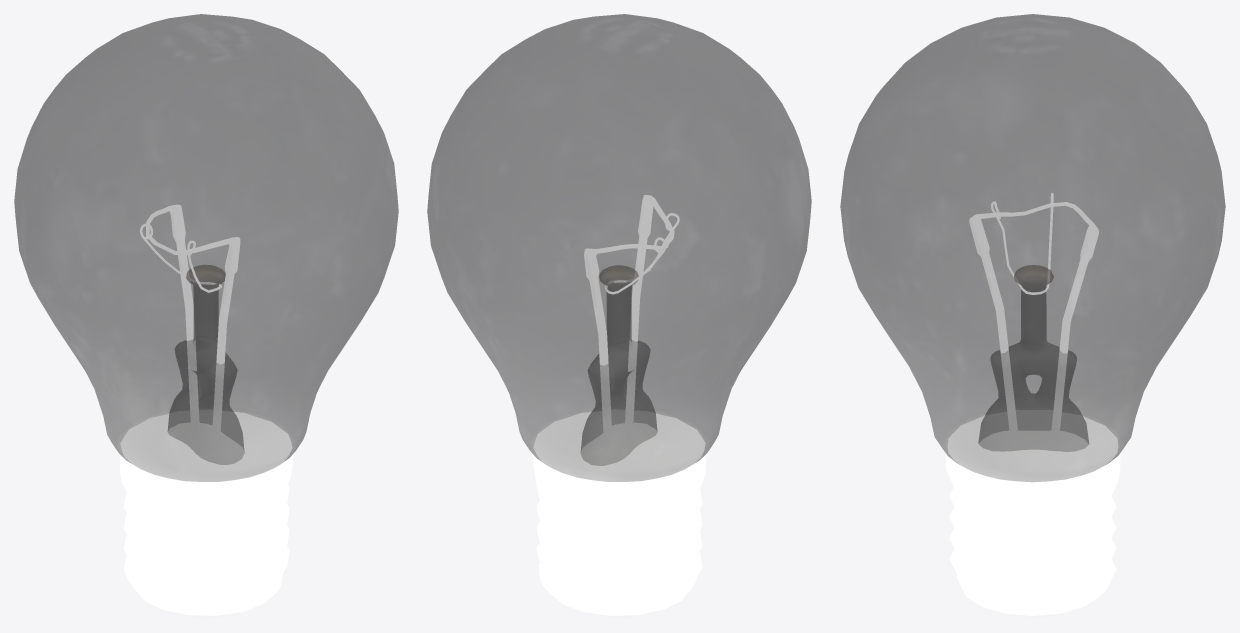
Rendered from lightbulb_01.glb.
3 views of the same model, side by side, from view 1: azimuth 30°, elevation 25°; view 2: azimuth 150°, elevation 25°; view 3: azimuth 270°, elevation 25° (orthographic).
Parts seen in each view (by area): view 1: lightbulb_01; view 2: lightbulb_01; view 3: lightbulb_01.
Boxes of the visible parts, box(x1,y1,x2,y2) form: lightbulb_01: box(14, 14, 398, 618); lightbulb_01: box(427, 14, 811, 618); lightbulb_01: box(840, 14, 1225, 618).
Size of the model in its own units: 0.06 by 0.1003 by 0.06.
2 materials, 2 textured.
